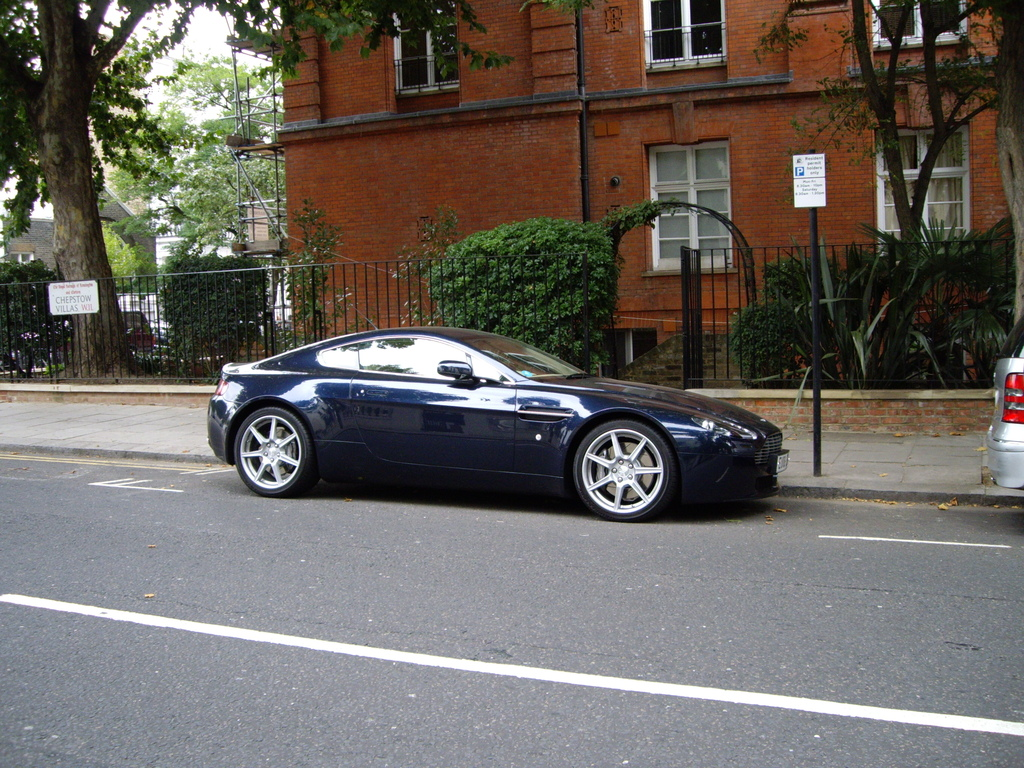Car: (192, 327, 780, 522), (994, 302, 1023, 486)
